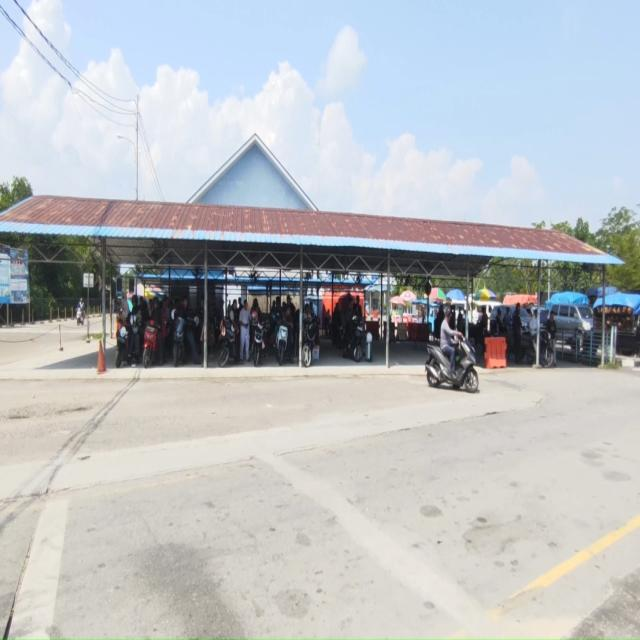Golongan II: (425, 338, 478, 393), (173, 313, 199, 367), (523, 329, 553, 368), (343, 314, 365, 362), (218, 318, 236, 368), (142, 318, 159, 368), (115, 318, 130, 368), (302, 317, 317, 367), (252, 321, 268, 366), (173, 316, 186, 367), (129, 311, 141, 364), (276, 321, 289, 366)
